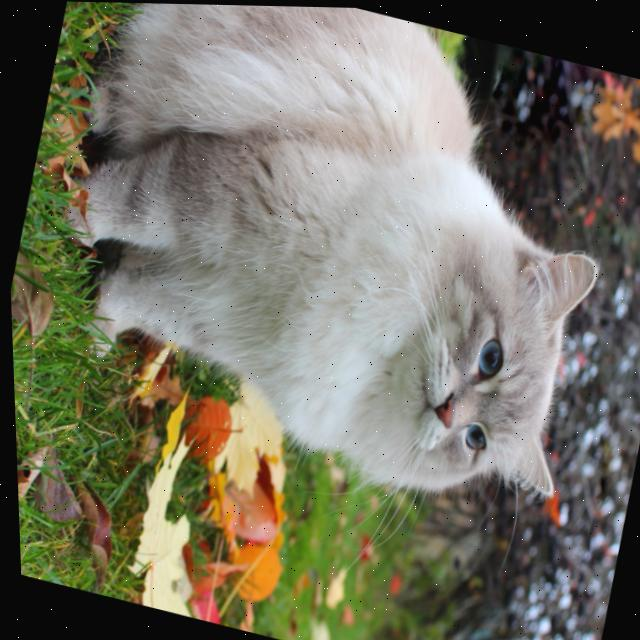Neva Masquerade: (1, 0, 640, 534)
